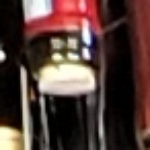bottle: (17, 25, 118, 110)
